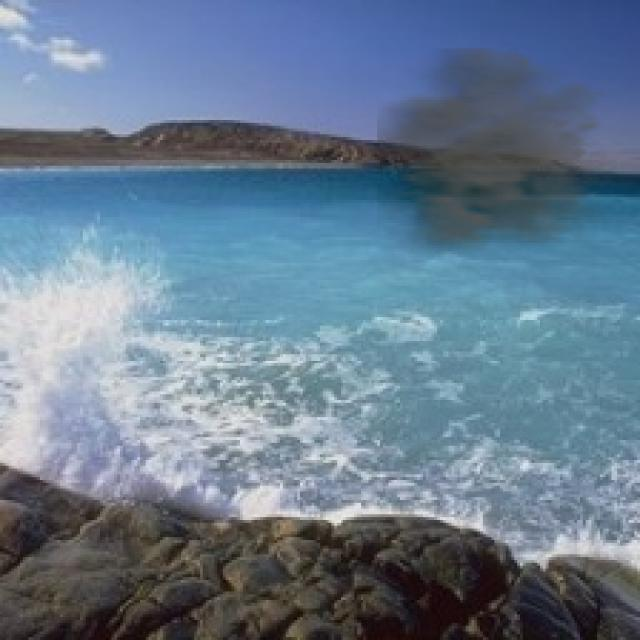smoke: (377, 48, 632, 263)
